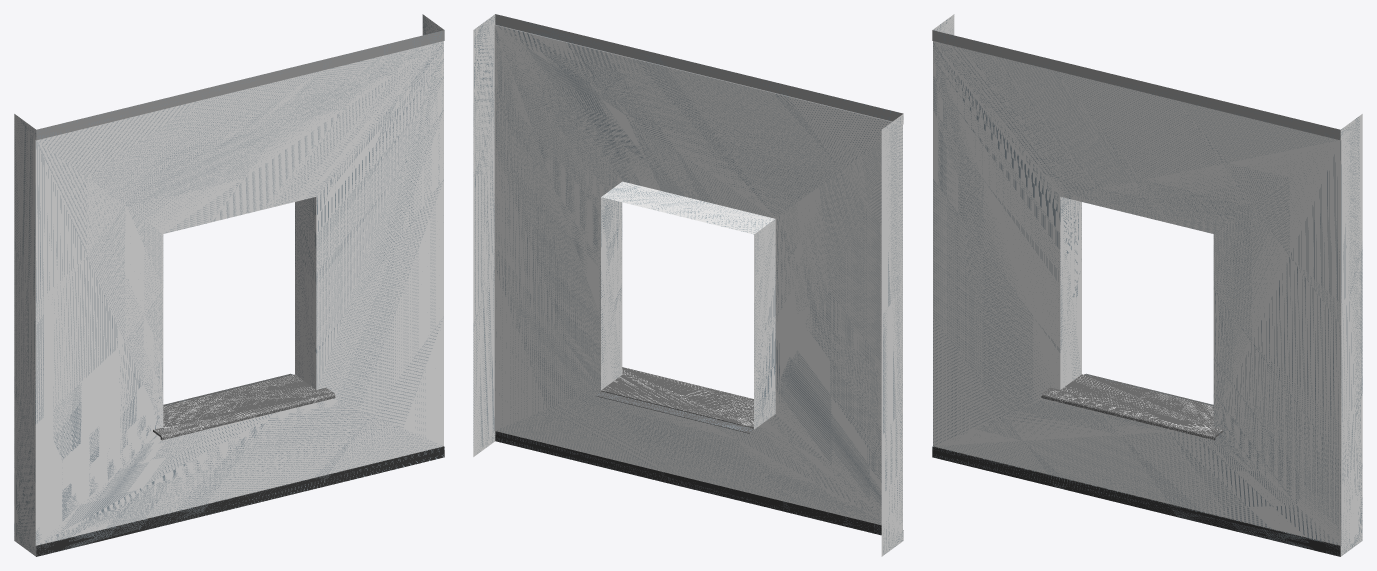
File: WindowBlock_os_plinth_[400x400]_150x181x[090].dae
3 views of the same model, side by side, from view 1: azimuth 30°, elevation 25°; view 2: azimuth 150°, elevation 25°; view 3: azimuth 330°, elevation 25° (orthographic).
Visible parts, largest first — view 1: group_1 (×4), group_2; view 2: group_1 (×4), group_2 (×2); view 3: group_1 (×4), group_2.
Boxes of the visible parts, x1,y1,x2,y2 form: group_1 (×4): (14, 14, 444, 556); group_2: (153, 374, 335, 440); group_1 (×4): (473, 14, 903, 556); group_2 (×2): (596, 367, 753, 433); group_1 (×4): (932, 14, 1362, 556); group_2: (1041, 374, 1223, 440).
Bounding box in the file's own units: 157 × 23.03 × 157.
